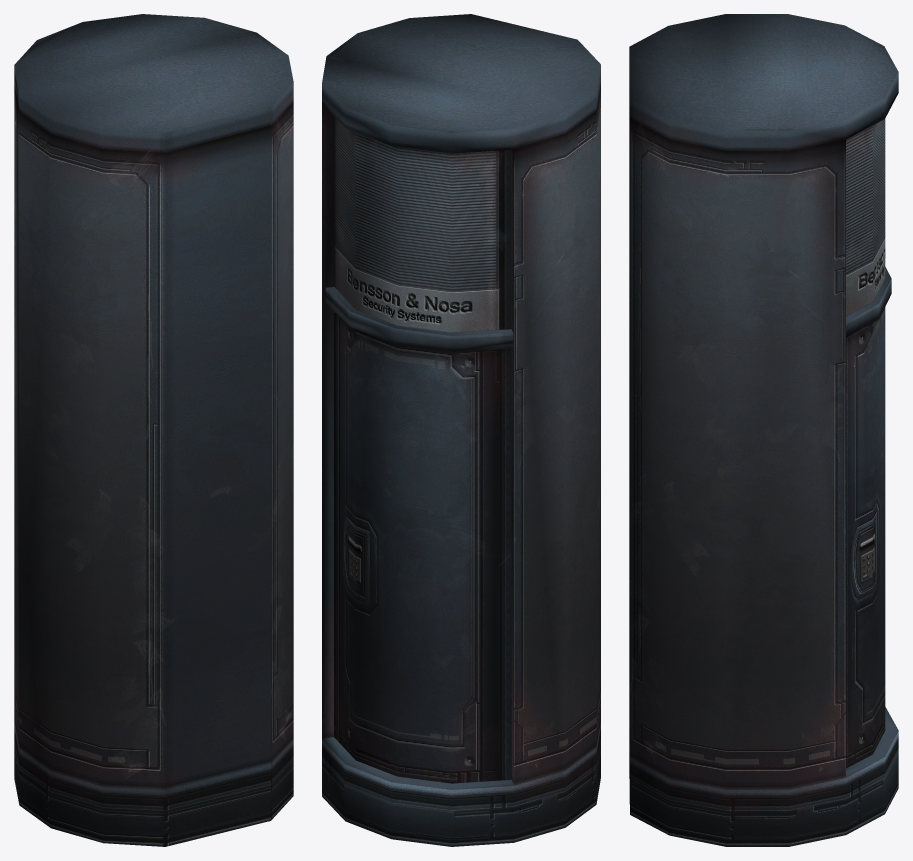
Rendered from safe.glb.
3 views of the same model, side by side, from view 1: azimuth 30°, elevation 25°; view 2: azimuth 150°, elevation 25°; view 3: azimuth 270°, elevation 25° (orthographic).
Parts seen in each view (by area): view 1: Cylinder03; view 2: Cylinder03; view 3: Cylinder03.
Part boxes in pixels (x1,y1,x2,y2): Cylinder03: (14, 14, 293, 846); Cylinder03: (322, 14, 600, 846); Cylinder03: (629, 14, 898, 846).
Bounding box in the file's own units: 40.53 × 116 × 39.51.
Materials: 1 (1 with a texture image).
